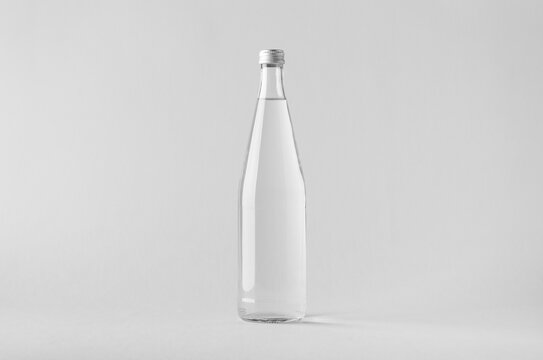glass_bottle: (229, 37, 313, 336)
